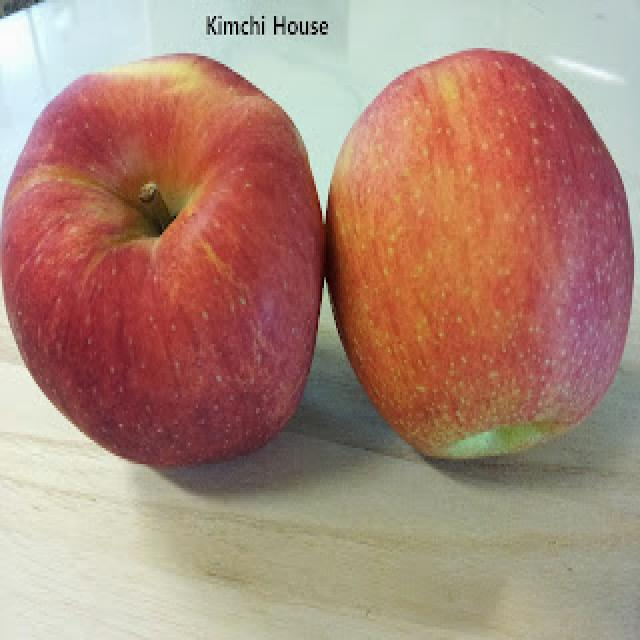Apple: (6, 44, 326, 466), (328, 47, 636, 463)
